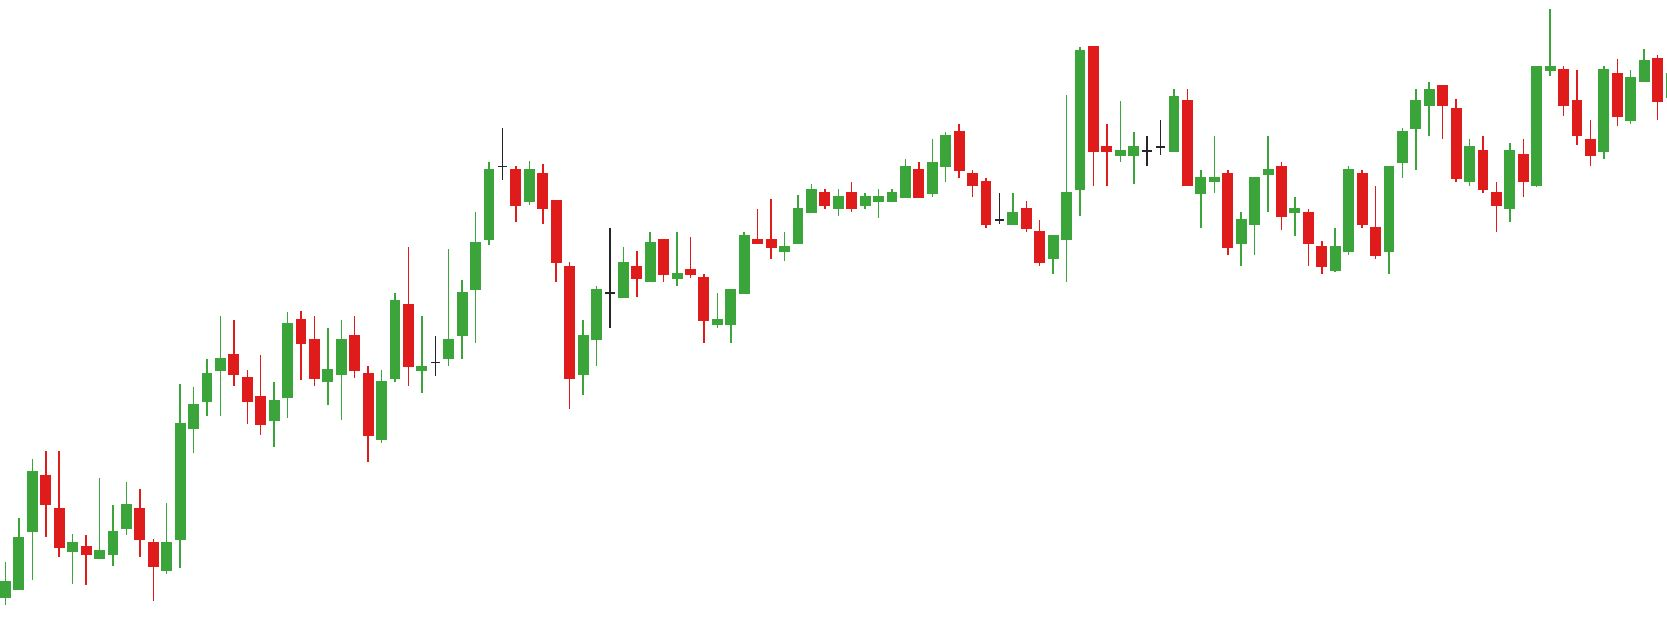buy: (417, 238, 590, 417), (606, 222, 737, 350), (267, 345, 388, 469), (66, 504, 174, 617)
